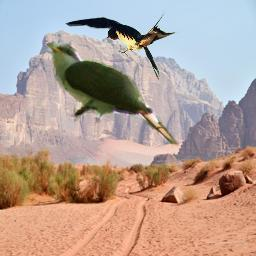Cuckoo: (43, 42, 179, 146)
Swallow: (63, 11, 196, 80)
